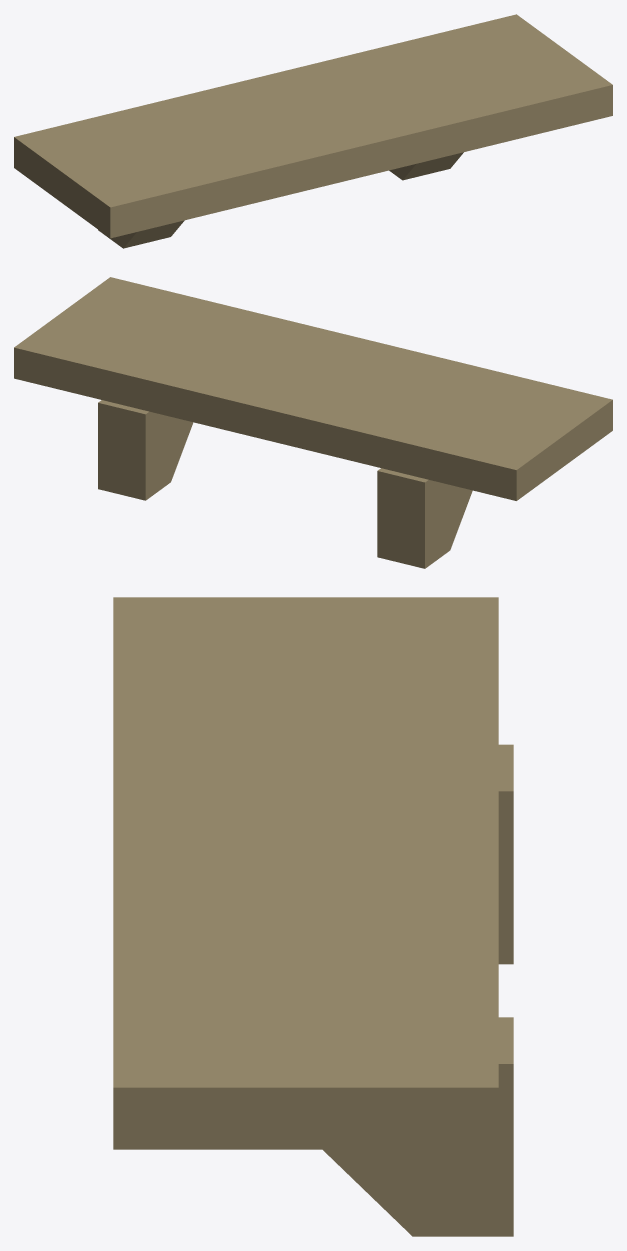
The model's file is Pulka.fbx.
The picture shows the model from 3 angles, top to bottom: view 1: azimuth 30°, elevation 25°; view 2: azimuth 150°, elevation 25°; view 3: azimuth 270°, elevation 25°; orthographic projection. The views are drawn at different scales.
Parts seen in each view (by area): view 1: Cube.009, Cube.011; view 2: Cube.009, Cube.011; view 3: Cube.009, Cube.011.
Part boxes in pixels (x1,y1,x2,y2): Cube.009: [14, 14, 612, 238]; Cube.011: [98, 152, 463, 248]; Cube.009: [14, 277, 612, 500]; Cube.011: [98, 400, 472, 568]; Cube.009: [113, 597, 498, 1149]; Cube.011: [323, 744, 513, 1236].
Size of the model in its own units: 78.26 by 17.46 by 27.01.
